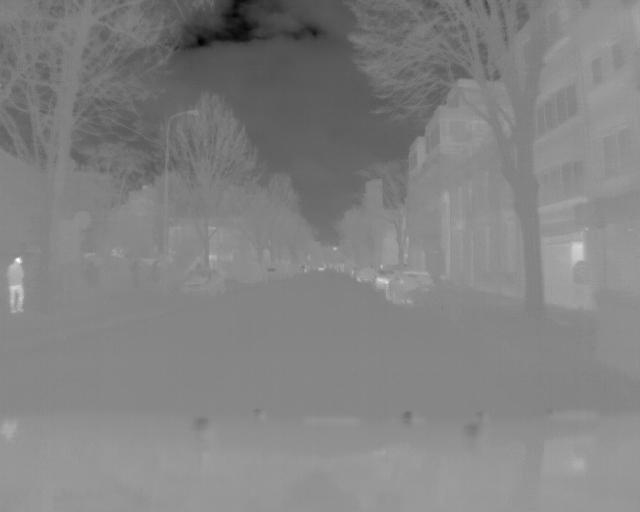car: (383, 269, 434, 306)
person: (6, 254, 27, 315)
